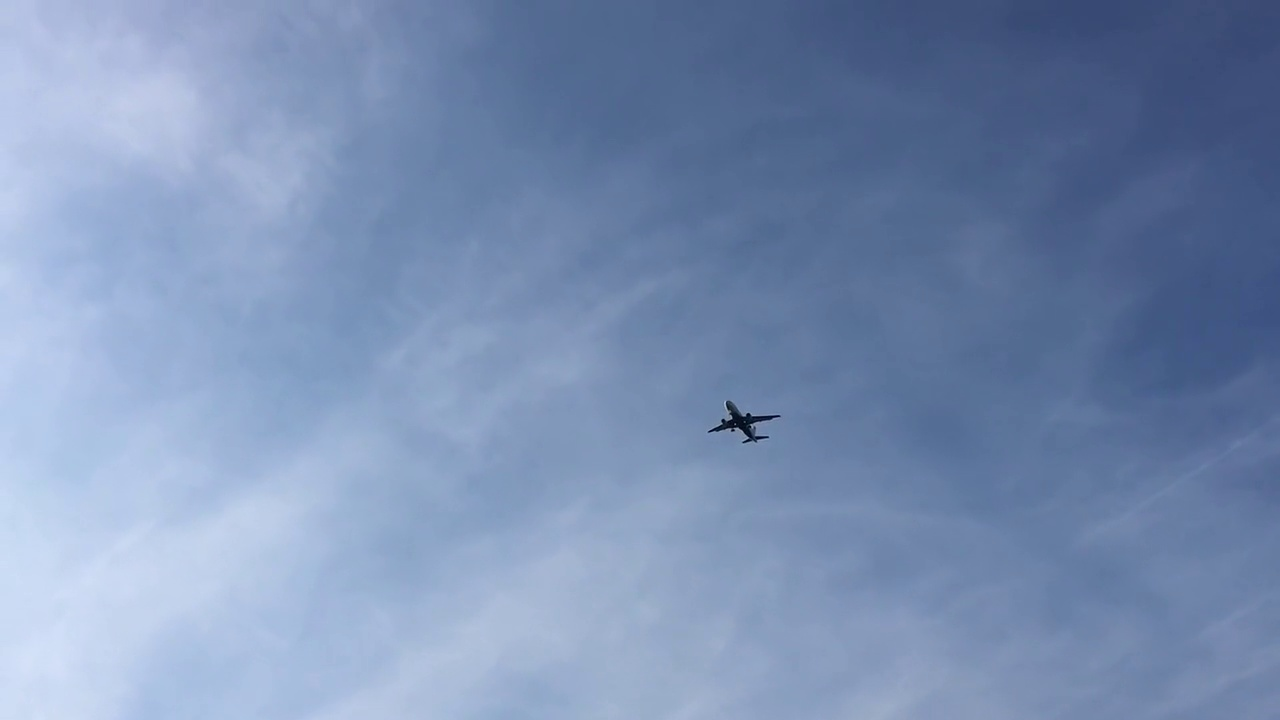plane: (709, 398, 782, 444)
